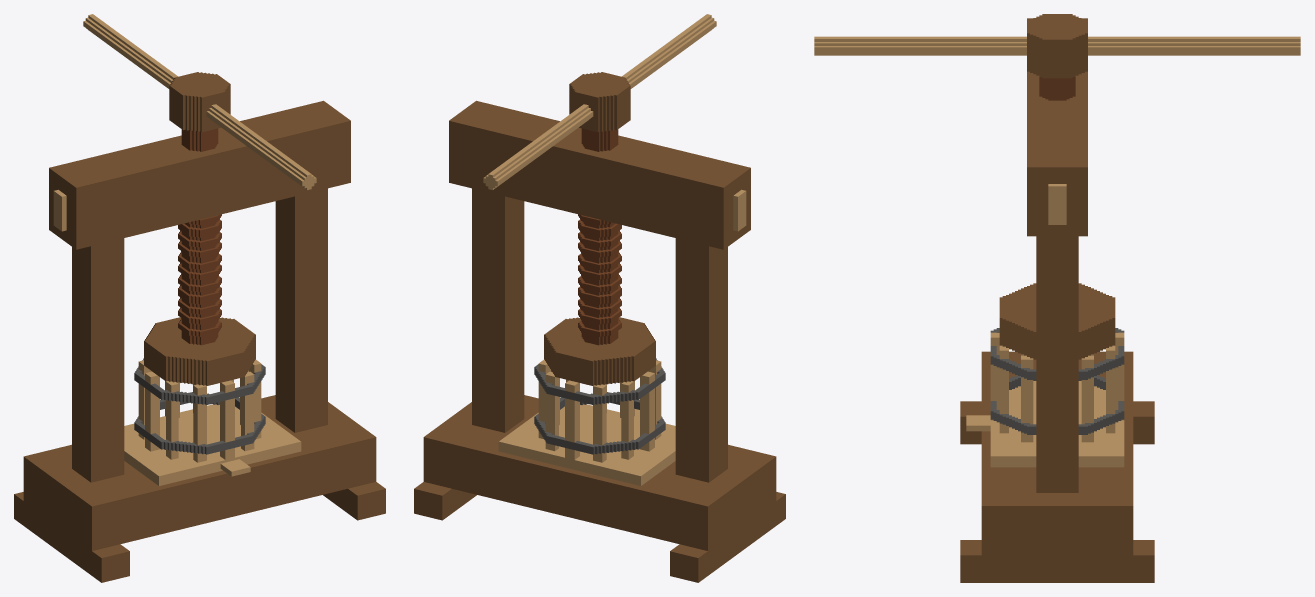
Rendered from screw_press_tool.glb.
The picture shows the model from 3 angles, left to right: view 1: azimuth 30°, elevation 25°; view 2: azimuth 150°, elevation 25°; view 3: azimuth 270°, elevation 25°; orthographic projection. The views are drawn at different scales.
Visible parts, largest first — view 1: screw_press_tool:compound; view 2: screw_press_tool:compound; view 3: screw_press_tool:compound.
Part boxes in pixels (box(x1,y1,x2,y2)): screw_press_tool:compound: box(14, 14, 385, 582); screw_press_tool:compound: box(414, 14, 785, 582); screw_press_tool:compound: box(814, 14, 1300, 582).
Bounding box in the file's own units: 1.2 × 1.74 × 1.6.
